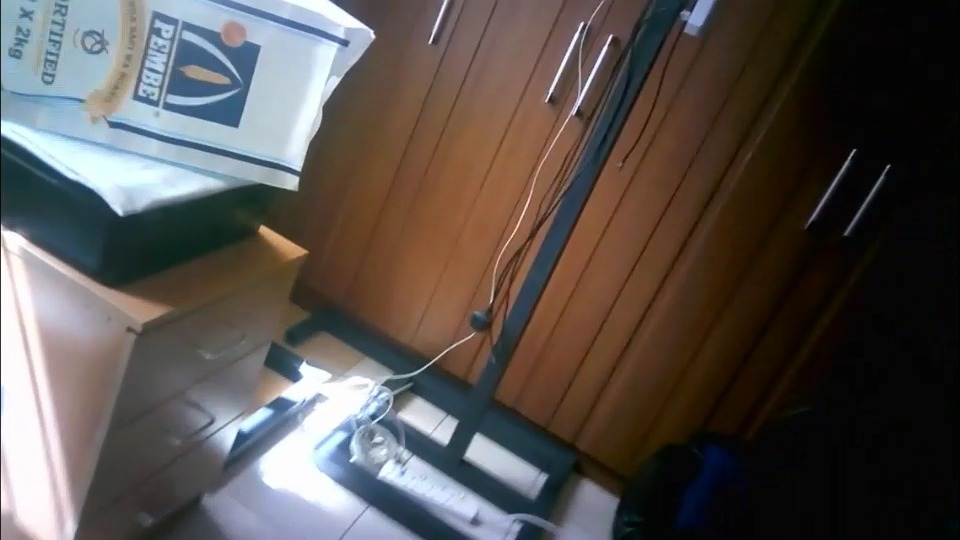wheat_flour_blue_label: (2, 0, 372, 188)
